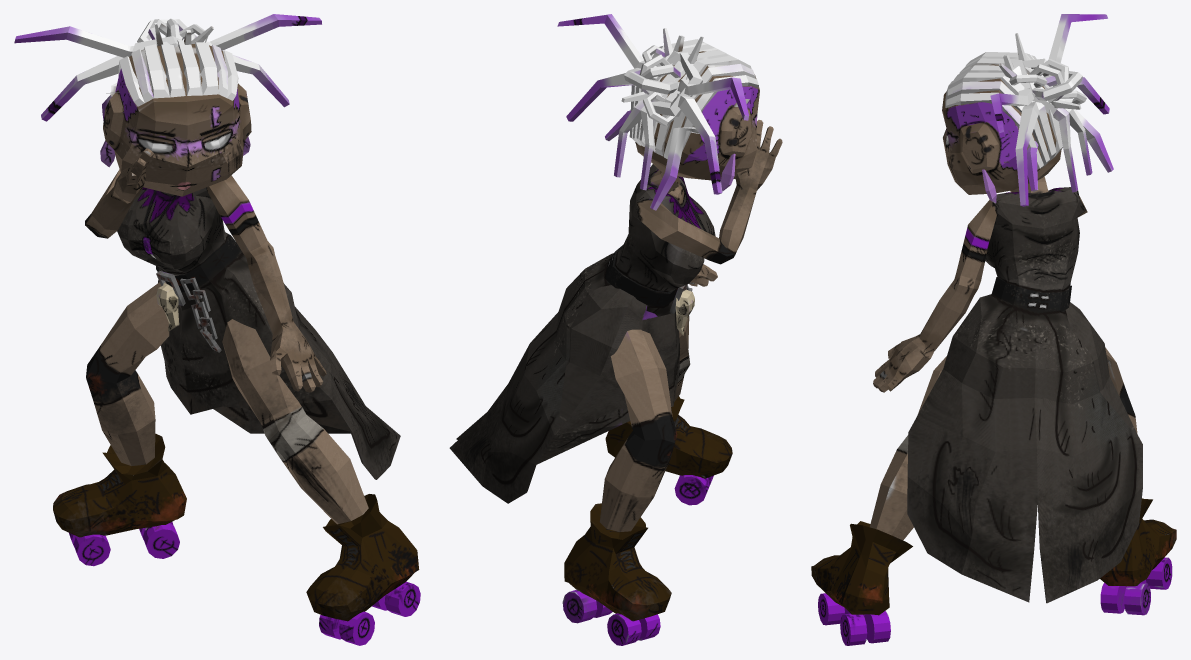
Rendered from bruja_000006.obj.
3 views of the same model, side by side, from view 1: azimuth 30°, elevation 25°; view 2: azimuth 150°, elevation 25°; view 3: azimuth 270°, elevation 25° (orthographic). The views are drawn at different scales.
Visible parts, largest first — view 1: Bruja_Plane.001; view 2: Bruja_Plane.001; view 3: Bruja_Plane.001.
Part boxes in pixels (x1=…): Bruja_Plane.001: x1=14, y1=14, x2=420, y2=645; Bruja_Plane.001: x1=449, y1=14, x2=782, y2=645; Bruja_Plane.001: x1=811, y1=14, x2=1176, y2=645.
Size of the model in its own units: 9.59 by 15.48 by 9.25.
